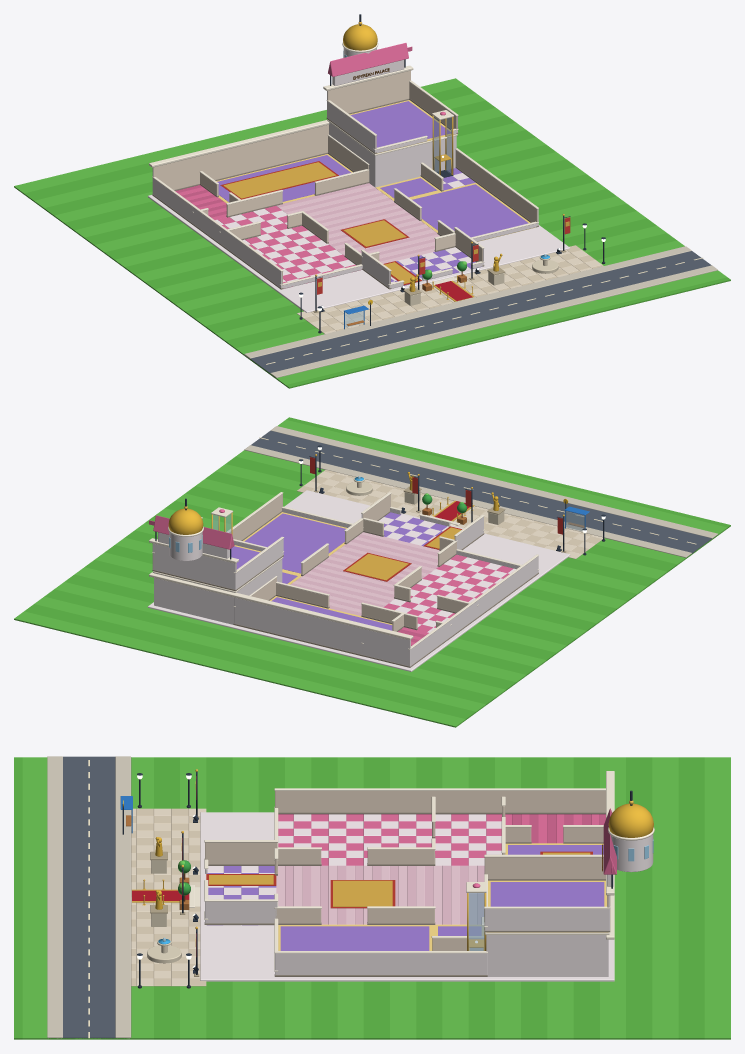
The model's file is shell.glb.
3 views of the same model, one above another, from view 1: azimuth 30°, elevation 25°; view 2: azimuth 150°, elevation 25°; view 3: azimuth 270°, elevation 25° (orthographic). The views are drawn at different scales.
Parts seen in each view (by area): view 1: grounds, building, floor_floor_1, crown, lift_floor_1, grand_2, dome, grand_4, grand_3; view 2: grounds, building, floor_floor_1, crown, grand_2, dome, grand_4, grand_3; view 3: grounds, building, floor_floor_1, crown, lift_floor_1, dome, grand_4, grand_3, grand_2.
Boxes of the visible parts, x1,y1,x2,y2 form: grounds: (14,78,730,388); building: (147,124,570,312); floor_floor_1: (326,70,458,187); crown: (149,14,413,167); lift_floor_1: (432,110,453,177); grand_2: (313,214,570,312); dome: (343,24,377,50); grand_4: (403,253,505,305); grand_3: (320,248,561,311); grounds: (14,417,730,727); building: (147,490,570,671); floor_floor_1: (152,517,284,624); crown: (149,498,413,639); grand_2: (309,454,566,552); dome: (168,508,203,534); grand_4: (403,472,505,524); grand_3: (319,487,561,551); grounds: (14,756,730,1039); building: (189,788,614,981); floor_floor_1: (484,854,610,976); crown: (602,771,654,939); lift_floor_1: (466,882,486,950); dome: (608,803,653,837); grand_4: (150,837,167,926); grand_3: (132,814,198,973); grand_2: (178,769,199,976).
Bounding box in the file's own units: 38.1 × 10.32 × 41.
